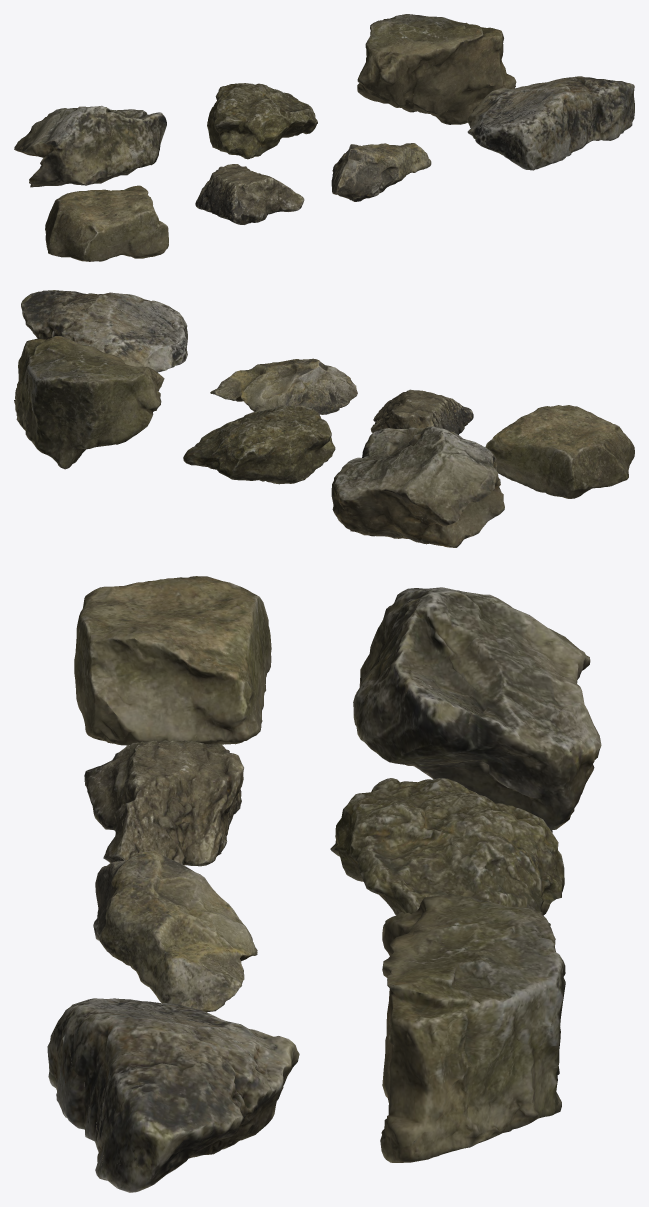
File: rock_moss_set_02.glb
3 views of the same model, one above another, from view 1: azimuth 30°, elevation 25°; view 2: azimuth 150°, elevation 25°; view 3: azimuth 270°, elevation 25° (orthographic). The views are drawn at different scales.
Visible parts, largest first — view 1: rock_moss_set_02_rock13_lo, rock_moss_set_02_rock10_lo, rock_moss_set_02_rock11_lo, rock_moss_set_02_rock07_lo, rock_moss_set_02_rock12_lo, rock_moss_set_02_rock08_lo, rock_moss_set_02_rock09_lo; view 2: rock_moss_set_02_rock11_lo, rock_moss_set_02_rock13_lo, rock_moss_set_02_rock07_lo, rock_moss_set_02_rock10_lo, rock_moss_set_02_rock12_lo, rock_moss_set_02_rock09_lo, rock_moss_set_02_rock08_lo; view 3: rock_moss_set_02_rock13_lo, rock_moss_set_02_rock11_lo, rock_moss_set_02_rock10_lo, rock_moss_set_02_rock07_lo, rock_moss_set_02_rock12_lo, rock_moss_set_02_rock09_lo, rock_moss_set_02_rock08_lo.
Part boxes in pixels (x1=…): rock_moss_set_02_rock13_lo: x1=357, y1=14, x2=516, y2=124; rock_moss_set_02_rock10_lo: x1=467, y1=76, x2=634, y2=170; rock_moss_set_02_rock11_lo: x1=14, y1=105, x2=166, y2=187; rock_moss_set_02_rock07_lo: x1=45, y1=185, x2=168, y2=261; rock_moss_set_02_rock12_lo: x1=207, y1=83, x2=317, y2=159; rock_moss_set_02_rock08_lo: x1=195, y1=164, x2=304, y2=224; rock_moss_set_02_rock09_lo: x1=331, y1=143, x2=431, y2=201; rock_moss_set_02_rock11_lo: x1=331, y1=426, x2=504, y2=547; rock_moss_set_02_rock13_lo: x1=14, y1=336, x2=164, y2=469; rock_moss_set_02_rock07_lo: x1=485, y1=405, x2=634, y2=498; rock_moss_set_02_rock10_lo: x1=21, y1=290, x2=187, y2=372; rock_moss_set_02_rock12_lo: x1=183, y1=405, x2=335, y2=484; rock_moss_set_02_rock09_lo: x1=210, y1=358, x2=357, y2=414; rock_moss_set_02_rock08_lo: x1=370, y1=389, x2=473, y2=434; rock_moss_set_02_rock13_lo: x1=380, y1=894, x2=565, y2=1162; rock_moss_set_02_rock11_lo: x1=353, y1=587, x2=601, y2=832; rock_moss_set_02_rock10_lo: x1=47, y1=998, x2=299, y2=1192; rock_moss_set_02_rock07_lo: x1=74, y1=576, x2=271, y2=745; rock_moss_set_02_rock12_lo: x1=330, y1=778, x2=564, y2=925; rock_moss_set_02_rock09_lo: x1=93, y1=850, x2=257, y2=1012; rock_moss_set_02_rock08_lo: x1=84, y1=740, x2=243, y2=866.
Size of the model in its own units: 8.28 by 1.37 by 3.41.
7 materials, 7 textured.
